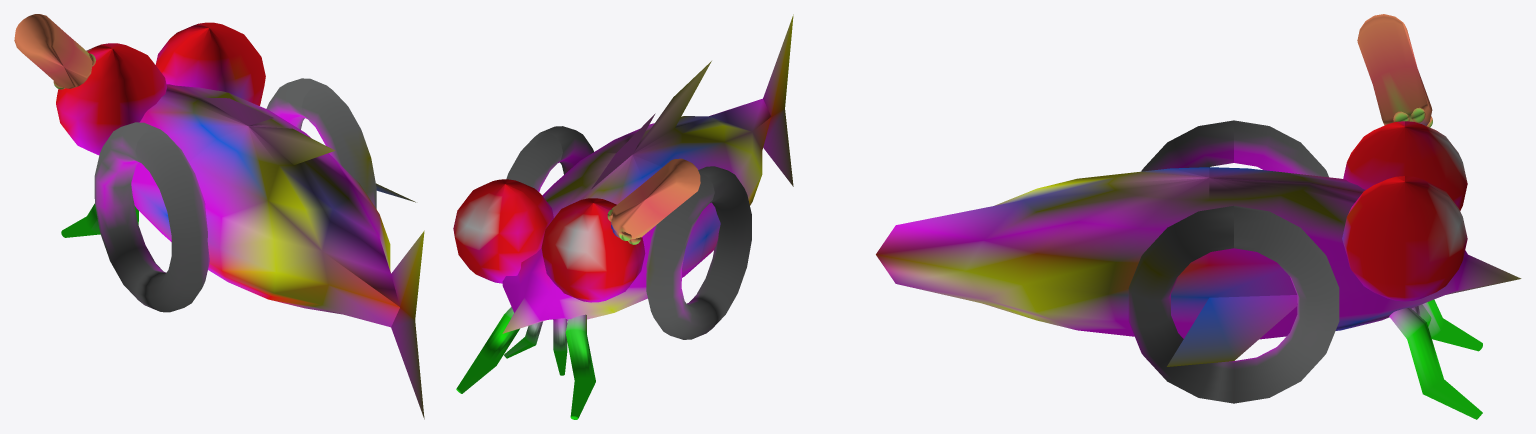
Rendered from bonbo.glb.
3 views of the same model, side by side, from view 1: azimuth 30°, elevation 25°; view 2: azimuth 150°, elevation 25°; view 3: azimuth 270°, elevation 25° (orthographic). The views are drawn at different scales.
Visible parts, largest first — view 1: Bonbo; view 2: Bonbo; view 3: Bonbo.
Boxes of the visible parts, x1,y1,x2,y2 form: Bonbo: (14, 14, 424, 419); Bonbo: (453, 14, 793, 419); Bonbo: (876, 14, 1521, 419).
Size of the model in its own units: 0.9268 by 0.799 by 1.7.
